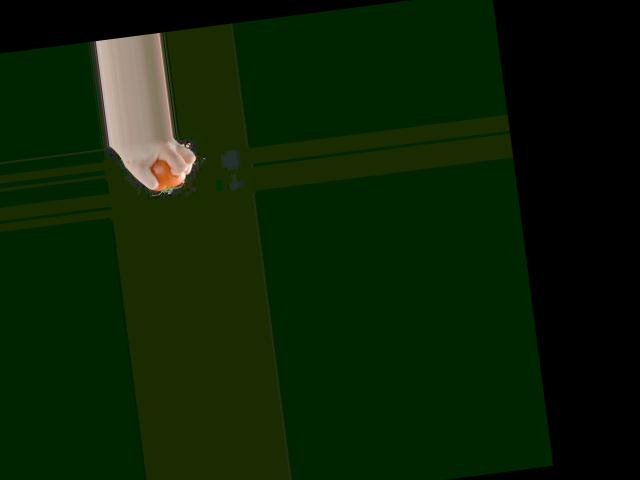tomato: (148, 156, 186, 191)
